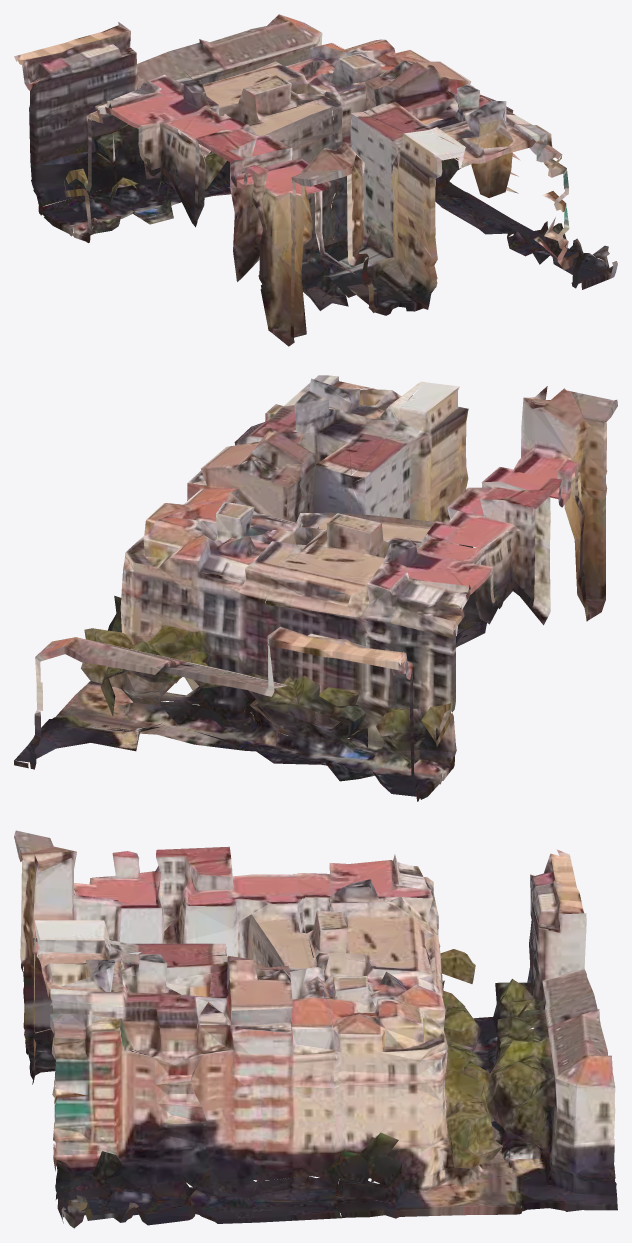
The picture shows the model from 3 angles, top to bottom: view 1: azimuth 30°, elevation 25°; view 2: azimuth 150°, elevation 25°; view 3: azimuth 270°, elevation 25°; orthographic projection. The views are drawn at different scales.
Visible parts, largest first — view 1: Mesh_0; view 2: Mesh_0; view 3: Mesh_0.
Boxes of the visible parts, x1,y1,x2,y2 form: Mesh_0: (14,14,617,346); Mesh_0: (14,375,617,801); Mesh_0: (14,830,617,1228).
Size of the model in its own units: 66.89 by 35.85 by 82.54.
Materials: 1 (1 with a texture image).
